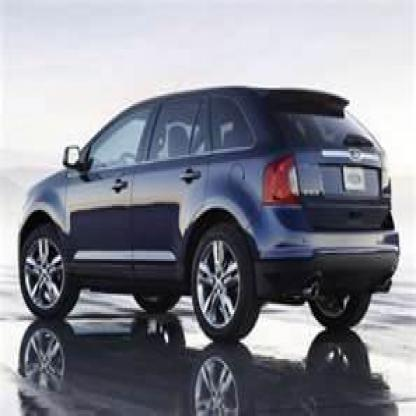Vehicle: (21, 88, 402, 346)
